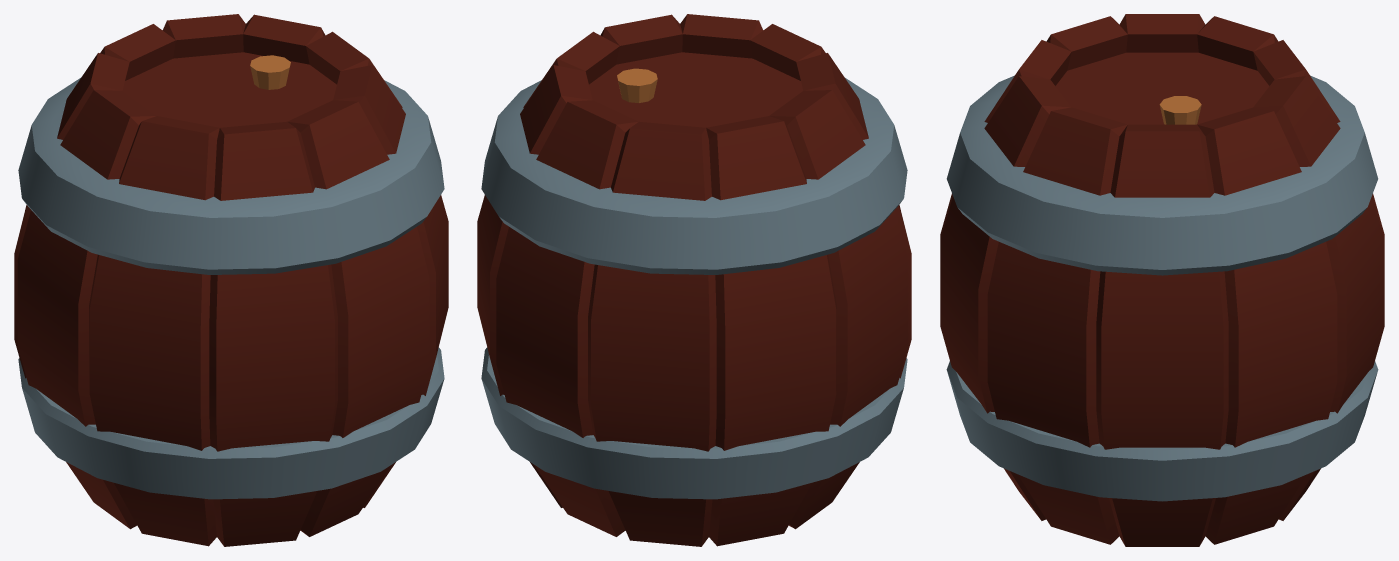
The model's file is barrel.obj.
3 renders of one model, left to right at view 1: azimuth 30°, elevation 25°; view 2: azimuth 150°, elevation 25°; view 3: azimuth 270°, elevation 25°, orthographic.
Visible parts, largest first — view 1: barrel_Cylinder.043; view 2: barrel_Cylinder.043; view 3: barrel_Cylinder.043.
Boxes of the visible parts, <box> form: barrel_Cylinder.043: <box>14,14,448,546</box>; barrel_Cylinder.043: <box>477,14,911,546</box>; barrel_Cylinder.043: <box>940,14,1384,546</box>.
Bounding box in the file's own units: 0.9415 × 1 × 0.9684.
